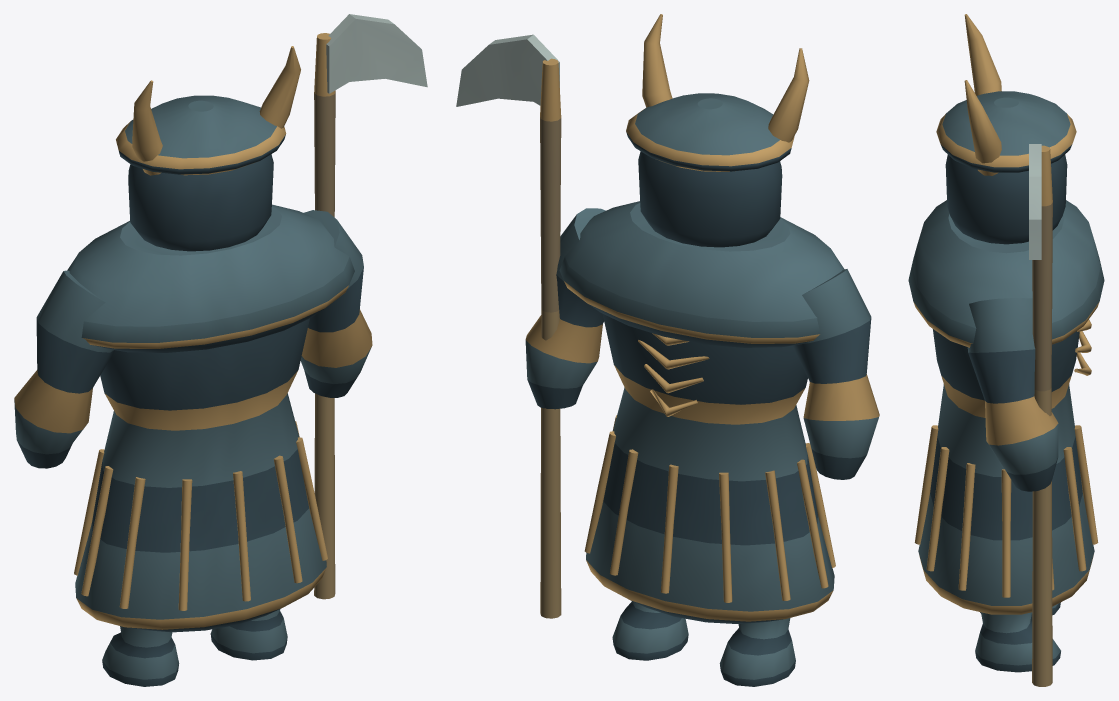
File: boss.glb
3 views of the same model, side by side, from view 1: azimuth 30°, elevation 25°; view 2: azimuth 150°, elevation 25°; view 3: azimuth 270°, elevation 25° (orthographic). The views are drawn at different scales.
Visible parts, largest first — view 1: Body, Walk00, Walk01; view 2: Body, Walk00, Walk01; view 3: Body, Walk01.
Part boxes in pixels (x1,y1,x2,y2): Body: [14, 14, 427, 632]; Walk00: [102, 626, 179, 686]; Walk01: [210, 609, 287, 660]; Body: [456, 14, 879, 623]; Walk00: [719, 618, 795, 686]; Walk01: [612, 601, 688, 660]; Body: [908, 14, 1104, 686]; Walk01: [975, 612, 1060, 672].
Size of the model in its own units: 2.03 by 2.88 by 0.874.
1 material, 1 textured.
